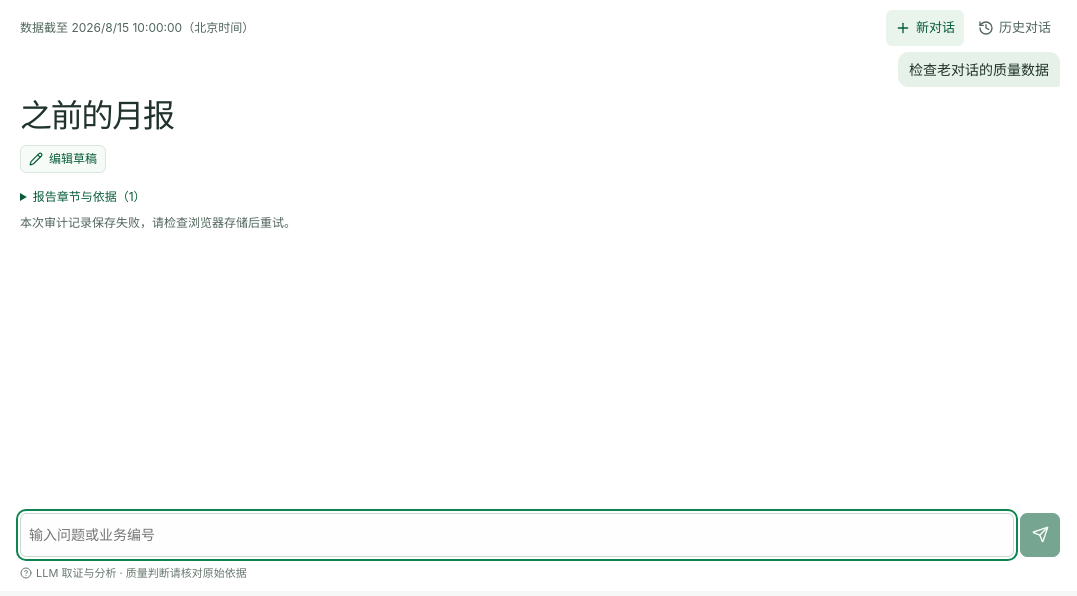
Test case: QE 助手 › migrates the old conversation and restores threads with independent model context after reload
Later steps or results of the test are not shown.
Expected: the text "检查老对话的质量数据" is shown, [898, 52, 1060, 87]
Click the button "新对话": (925,28) [886, 10, 964, 46]
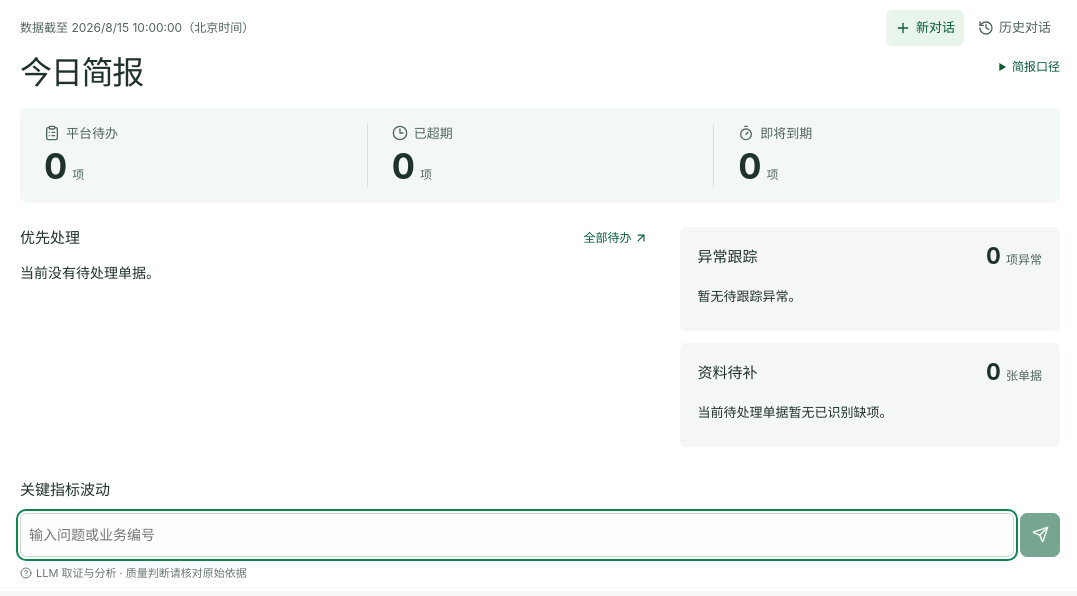
Expected: the text "检查老对话的质量数据" is gone
In the field named "向 QE 助手提问": (517,534) [20, 512, 1014, 556], type "新对话里的来料数据"
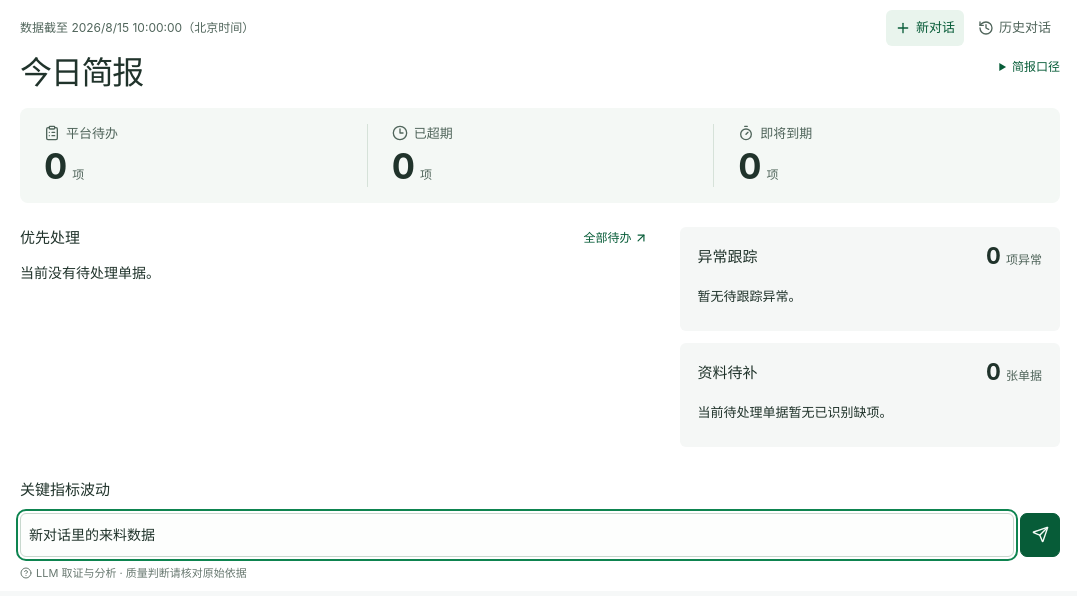
Click the button named "发送问题": (1040,534) [1020, 512, 1060, 556]
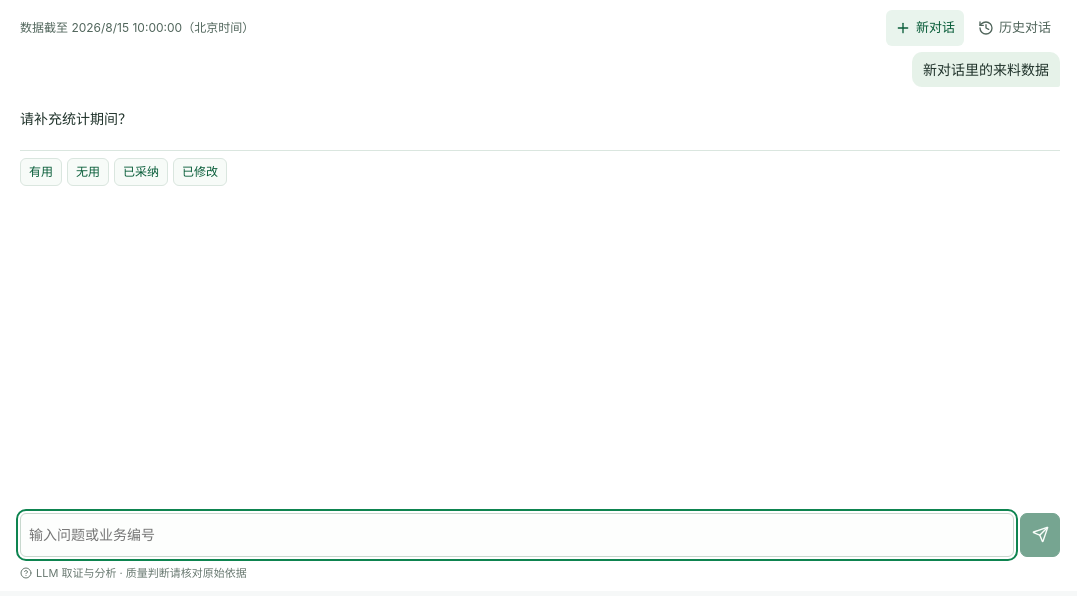
Expected: the text "新对话里的来料数据" is shown, [912, 52, 1060, 87]
